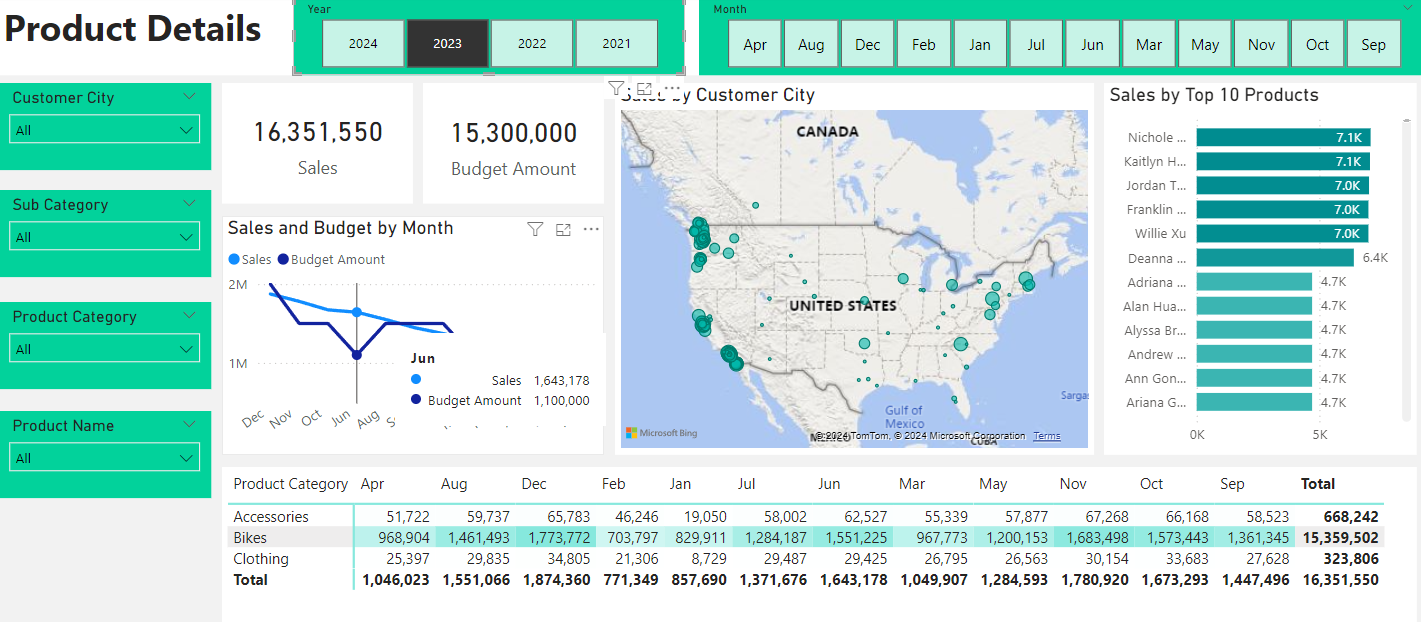

What the dashboard file says about the page in this screenshot:
{"tool":"powerbi","page":{"name":"Product Details","canvas":[1280,720],"ordinal":2},"visuals":[{"type":"textbox","box":[0,0,1280,71.2],"z":0},{"type":"slicer","fields":{"Values":["DIM_Customers.Customer City"]},"box":[0,78.3,190.8,78.3],"z":1000},{"type":"slicer","fields":{"Values":["DIM_Products.Sub Category"]},"box":[0,173.6,190.8,78.3],"z":2000},{"type":"slicer","fields":{"Values":["DIM_Products.Product Category"]},"box":[0,273.9,190.8,78.3],"z":3000},{"type":"slicer","fields":{"Values":["DIM_Products.Product Name"]},"box":[0,371.7,190.8,78.3],"z":4000},{"type":"lineChart","title":"Sales and Budget by Month","fields":{"Y":["Key Measures.Sales","Key Measures.Budget Amount"],"Category":["DIM_Calender.MonthShort"]},"box":[200.5,196.9,342.4,214],"z":5000},{"type":"slicer","fields":{"Values":["DIM_Calender.MonthShort"]},"box":[627.5,0,652.5,71.2],"z":6000},{"type":"slicer","fields":{"Values":["DIM_Calender.Year"]},"box":[264.1,0,351,70.9],"z":7000},{"type":"map","fields":{"Category":["DIM_Customers.Customer City"],"Size":["Key Measures.Sales"]},"box":[552.7,78.3,429.2,332.6],"z":9000},{"type":"card","fields":{"Values":["Key Measures.Sales"]},"box":[200.5,78.3,171.2,107.6],"z":10000},{"type":"card","fields":{"Values":["Key Measures.Budget Amount"]},"box":[380.6,77.9,162.1,108.4],"z":11000},{"type":"pivotTable","fields":{"Rows":["DIM_Products.Product Category","DIM_Products.Product Name"],"Columns":["DIM_Calender.MonthShort"],"Values":["Key Measures.Sales"]},"box":[200.5,421.9,1070,287.4],"z":11001},{"type":"barChart","title":"Sales by Top 10 Products","fields":{"Y":["Key Measures.Sales"],"Category":["DIM_Customers.Full Name"]},"box":[990.5,78.3,280,332.6],"z":11002}]}

Visuals, with their boxes on the page's 1280x720 design canvas (x1, y1, x2, y2). These are canvas units, not pixel positions in the 1421x622 screenshot, which may show the page scaled, cropped or inside an application window:
textbox: bbox=[0, 0, 1280, 71]
slicer - DIM_Customers.Customer City: bbox=[0, 78, 191, 157]
slicer - DIM_Products.Sub Category: bbox=[0, 174, 191, 252]
slicer - DIM_Products.Product Category: bbox=[0, 274, 191, 352]
slicer - DIM_Products.Product Name: bbox=[0, 372, 191, 450]
"Sales and Budget by Month" lineChart: bbox=[200, 197, 543, 411]
slicer - DIM_Calender.MonthShort: bbox=[628, 0, 1280, 71]
slicer - DIM_Calender.Year: bbox=[264, 0, 615, 71]
map - DIM_Customers.Customer City x Key Measures.Sales: bbox=[553, 78, 982, 411]
card - Key Measures.Sales: bbox=[200, 78, 372, 186]
card - Key Measures.Budget Amount: bbox=[381, 78, 543, 186]
pivotTable - DIM_Products.Product Category x DIM_Products.Product Name: bbox=[200, 422, 1270, 709]
"Sales by Top 10 Products" barChart: bbox=[990, 78, 1270, 411]
